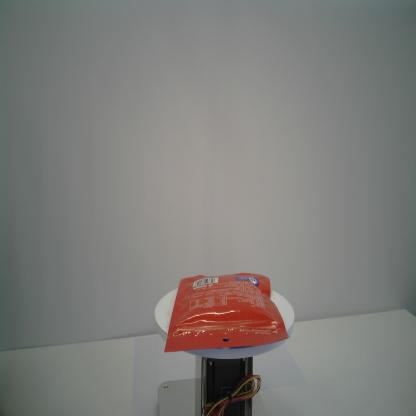Dried Fruit: (163, 270, 292, 357)
